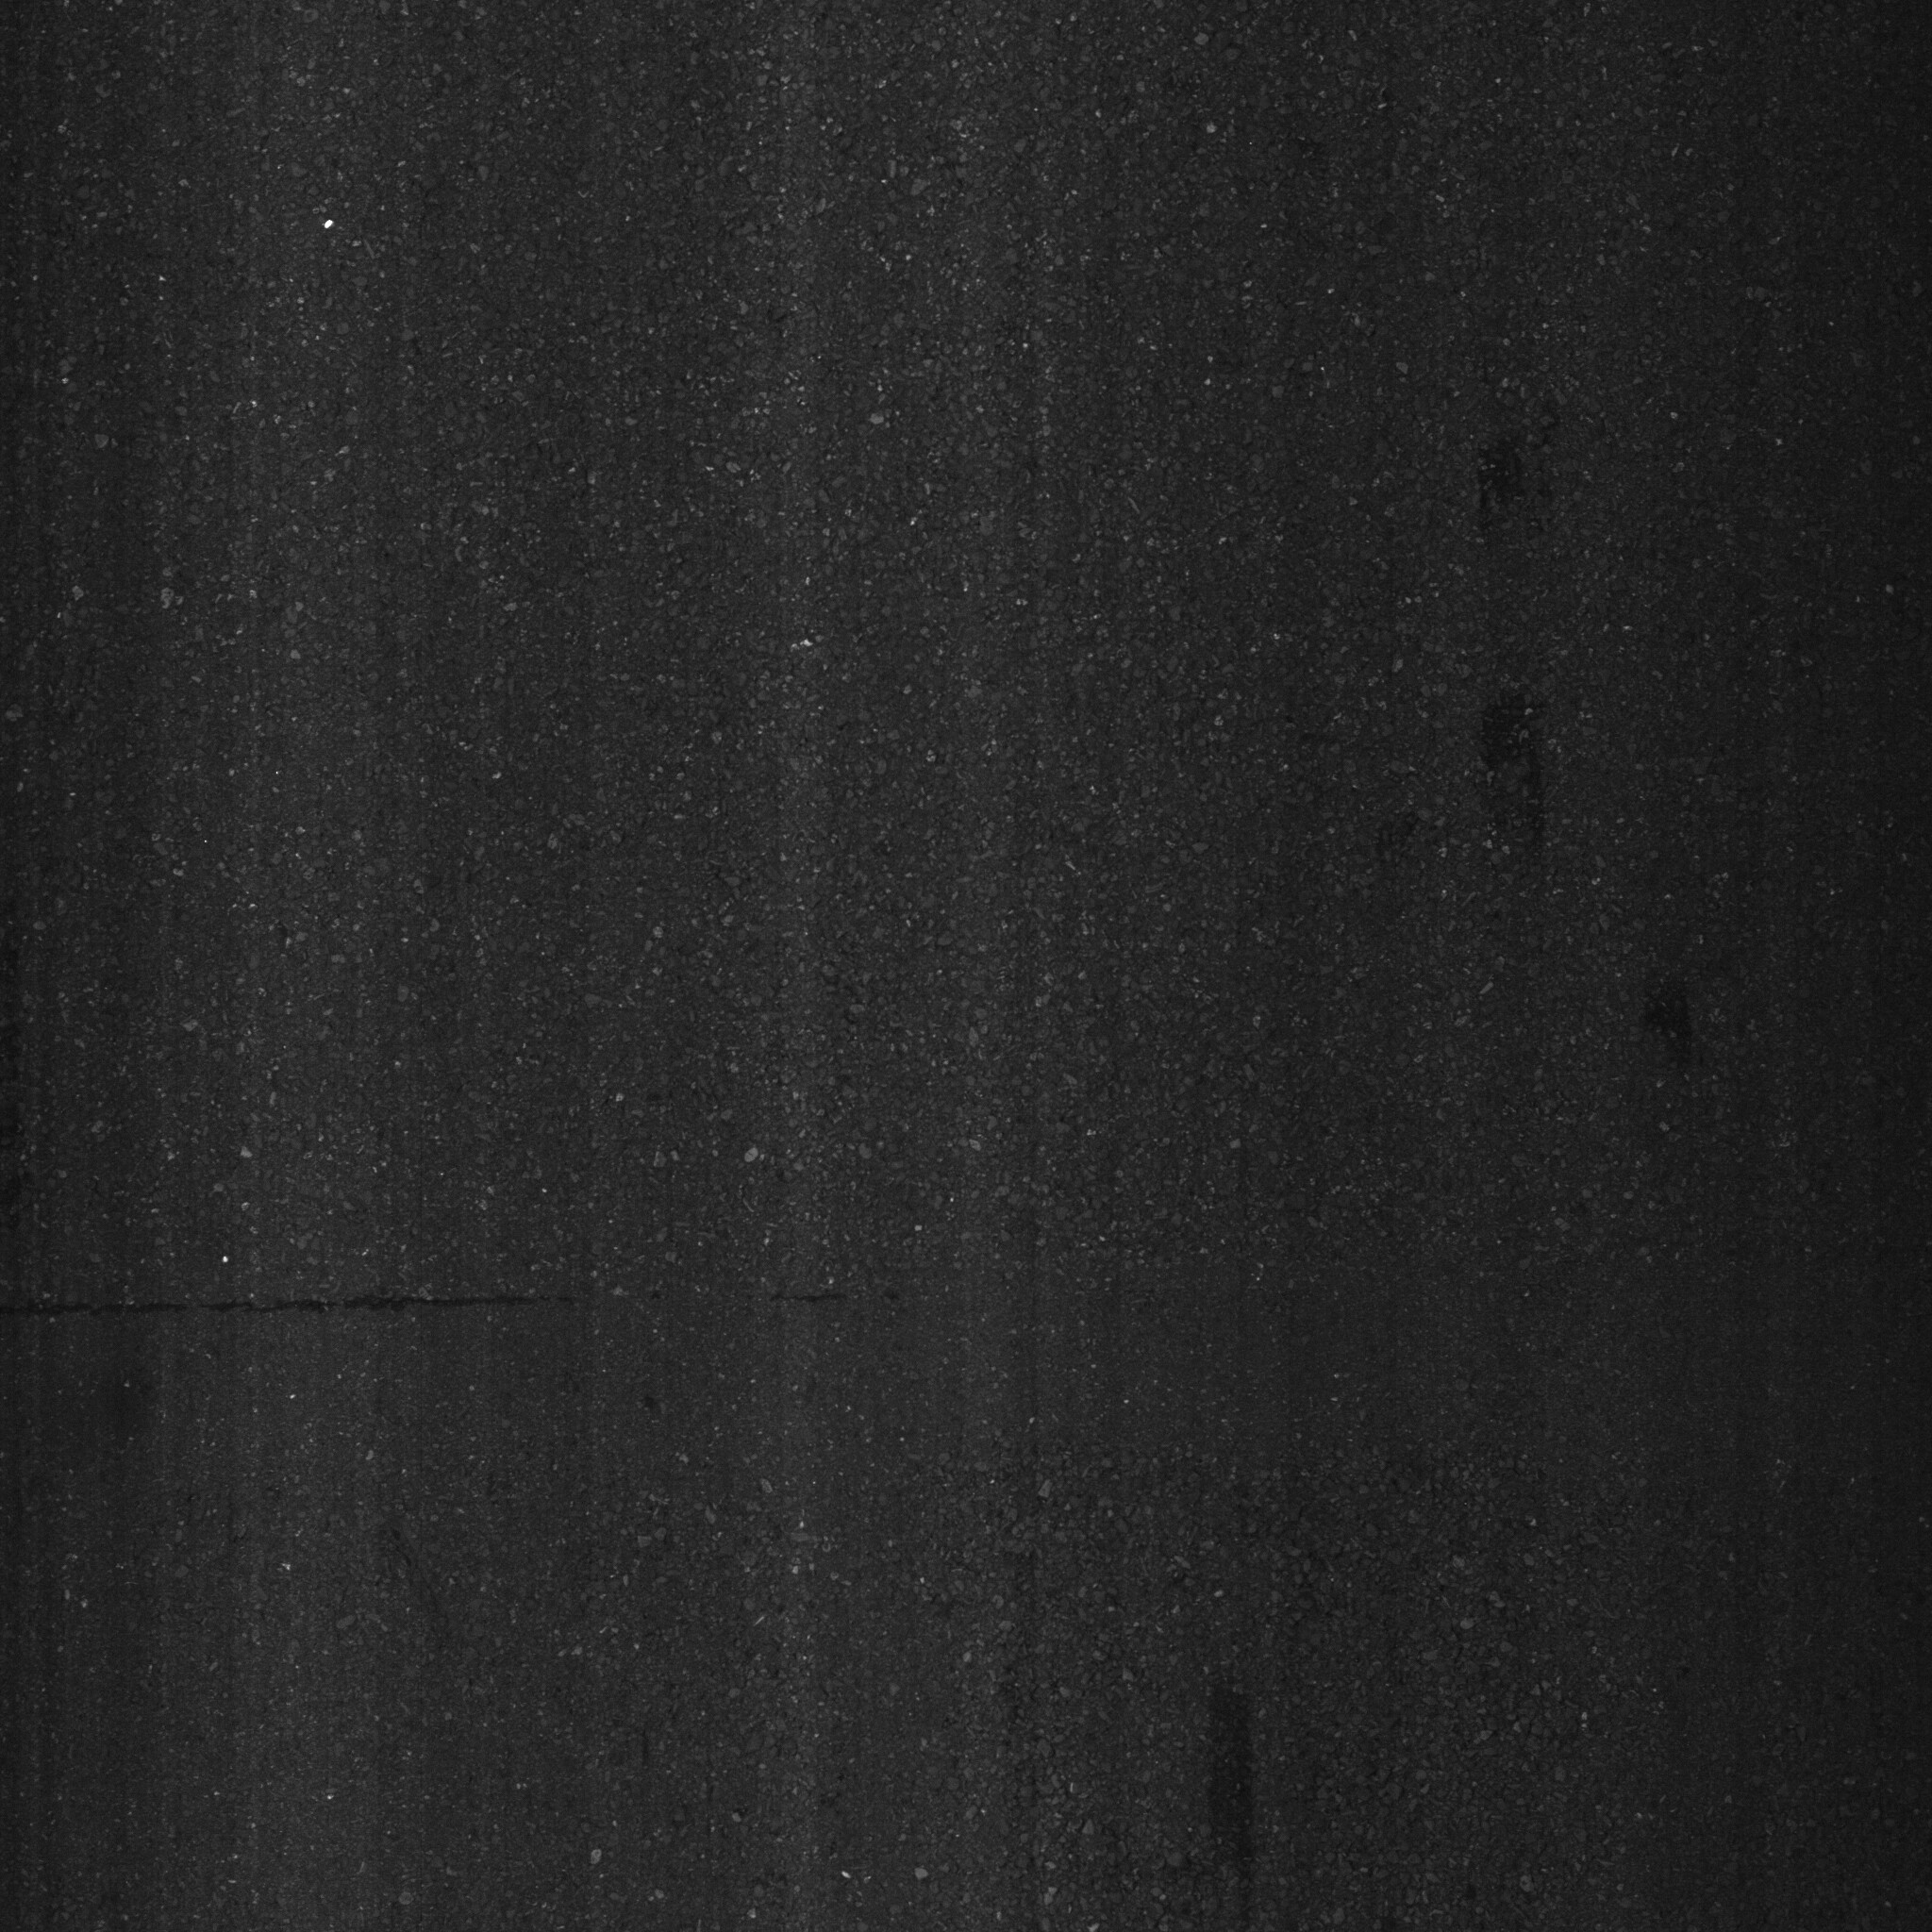transverse: (11, 1198, 925, 1382)
